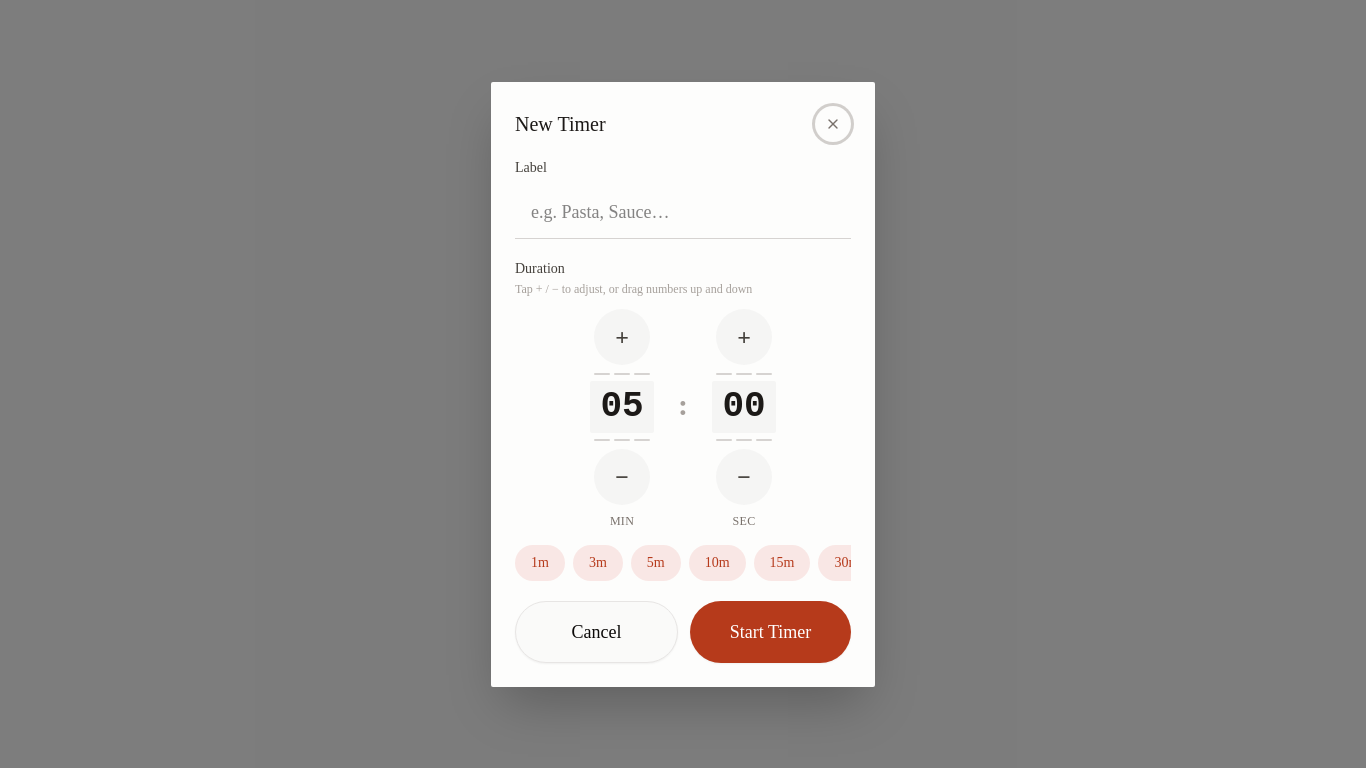
Scenario: AddTimerModal (add mode) › Start Timer is disabled when duration is 0
Click the button named "decrease minutes": click(622, 476) top-left (594, 448), bottom-right (650, 504)
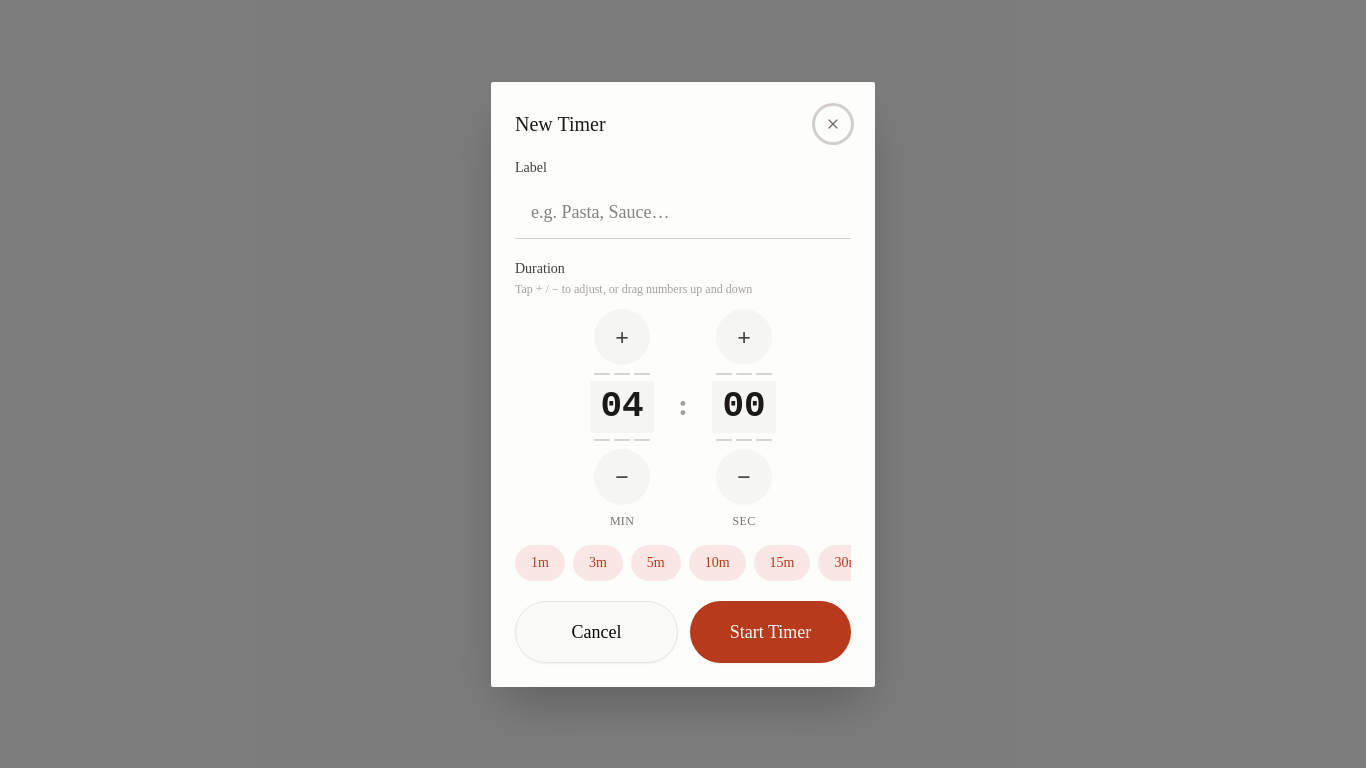
Click the button named "decrease minutes": click(622, 476) top-left (594, 448), bottom-right (650, 504)
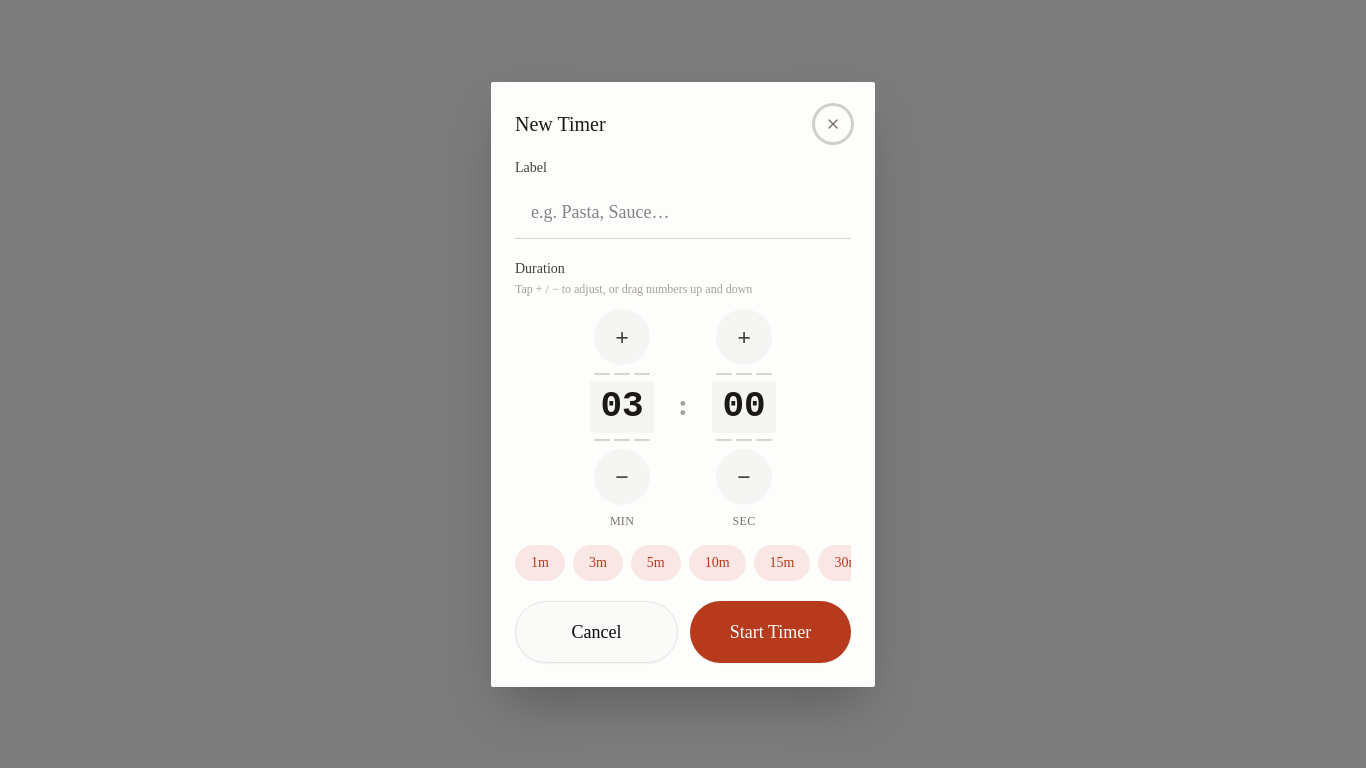
Click the button named "decrease minutes": click(622, 476) top-left (594, 448), bottom-right (650, 504)
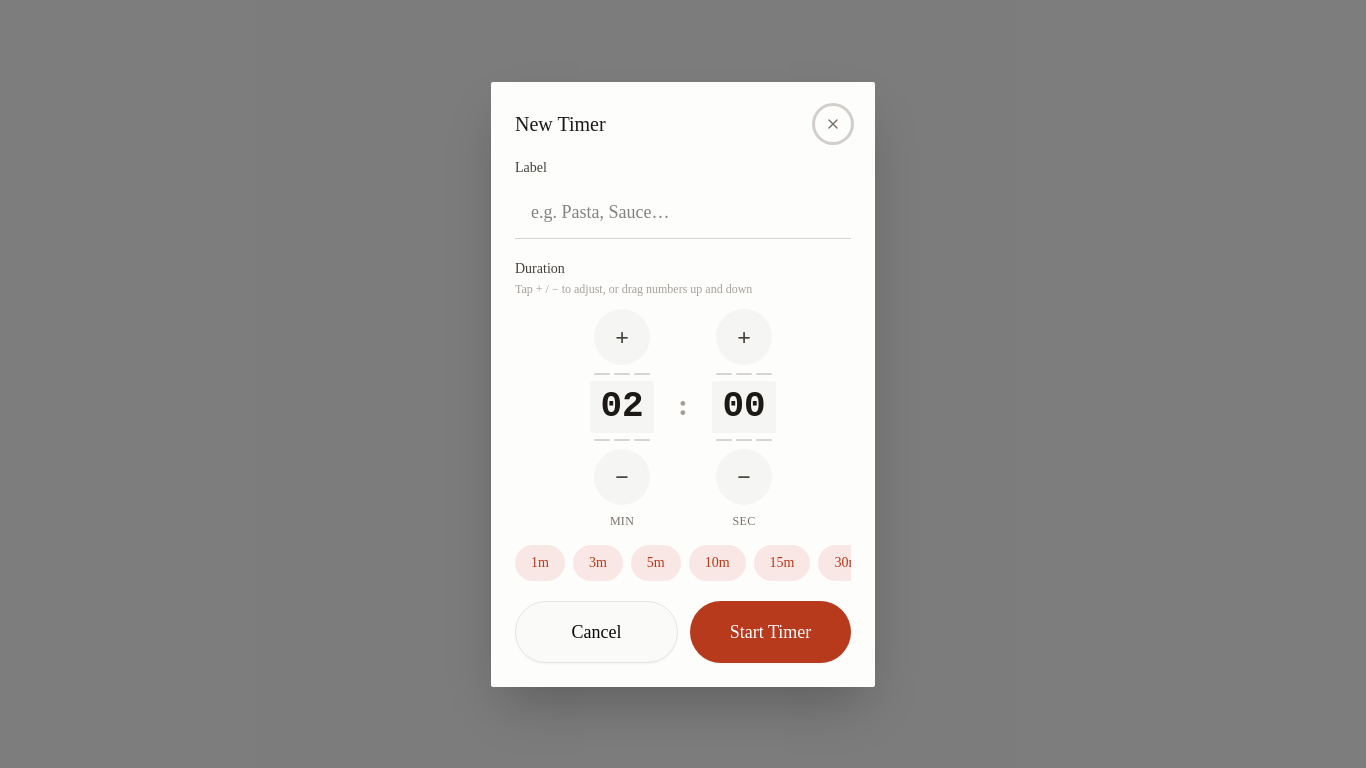
Click the button named "decrease minutes": click(622, 476) top-left (594, 448), bottom-right (650, 504)
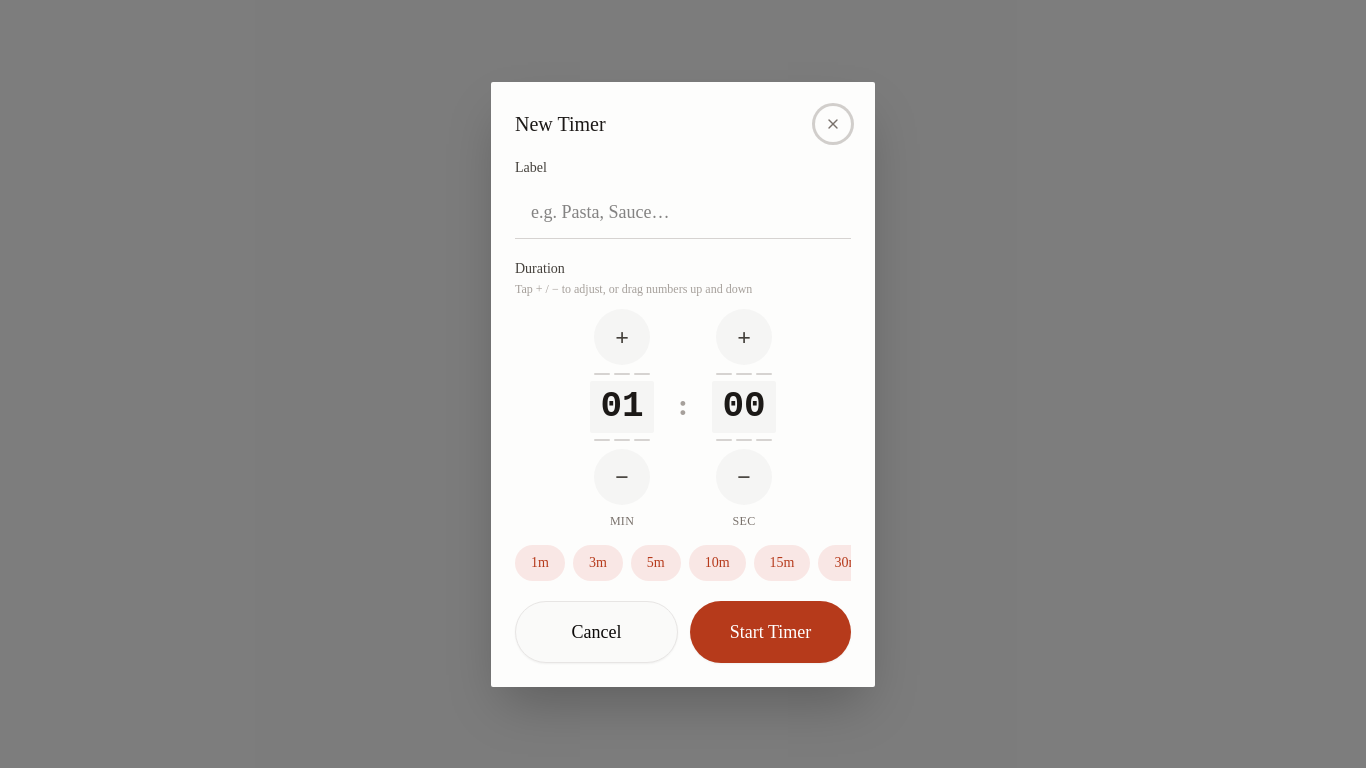
Click the button named "decrease minutes": click(622, 476) top-left (594, 448), bottom-right (650, 504)
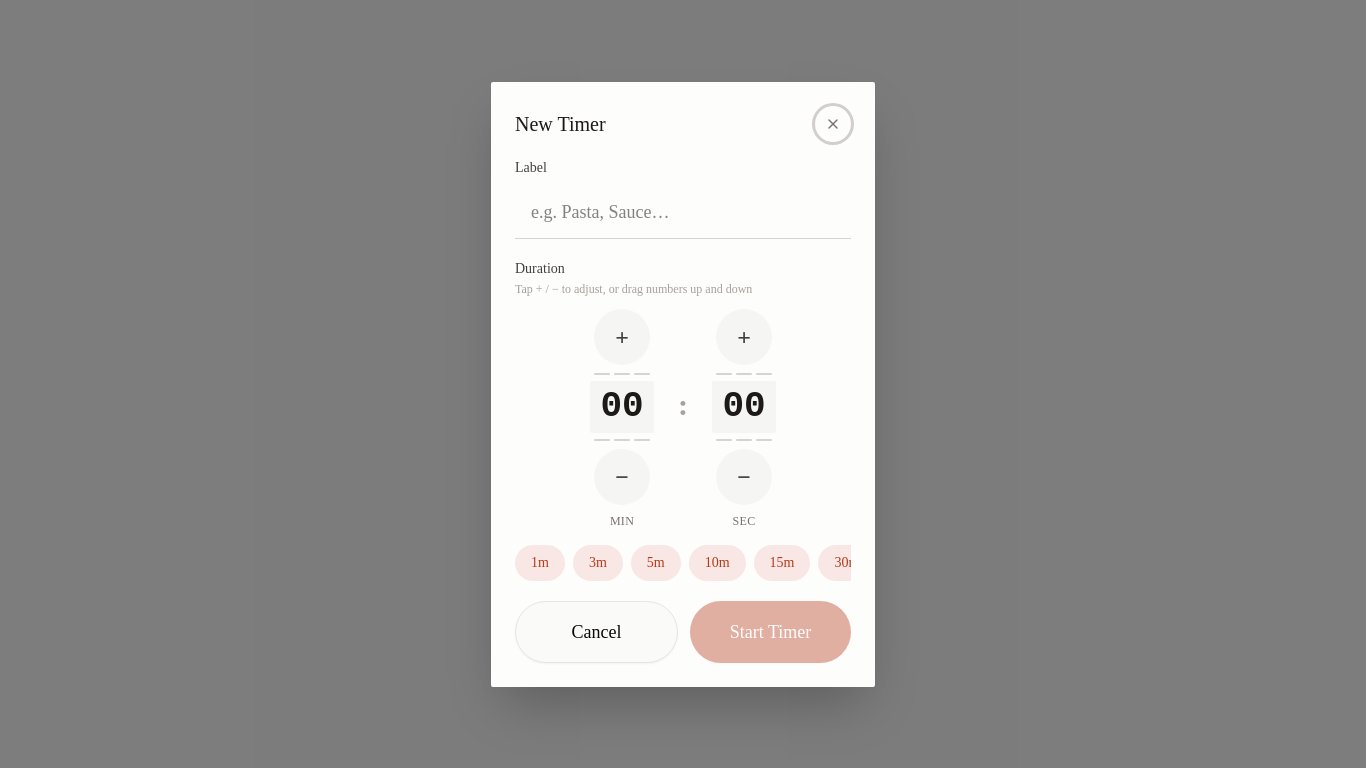
Result: the button "Start Timer" is disabled at top-left (690, 600), bottom-right (851, 662)
